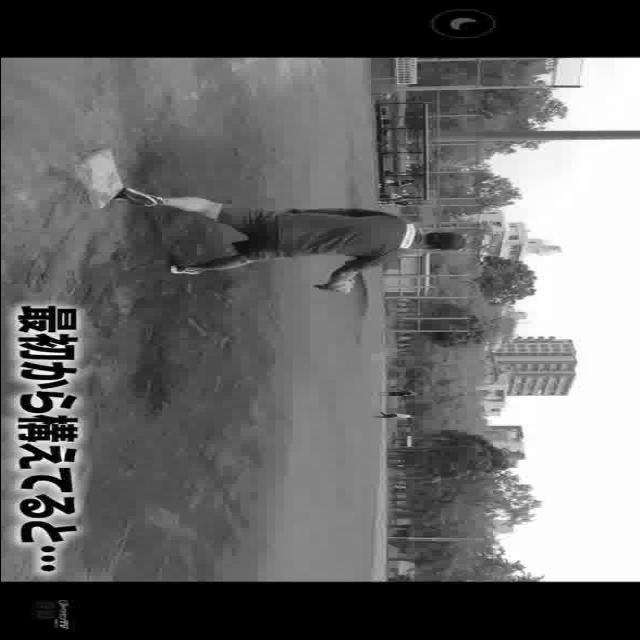base: (73, 149, 119, 207)
baseball_glove: (316, 278, 351, 294)
shoe: (110, 194, 160, 204), (168, 264, 208, 274)
